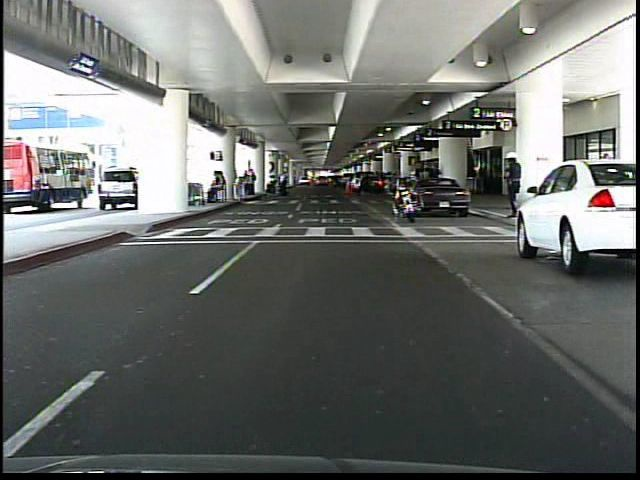person: (497, 149, 520, 219)
